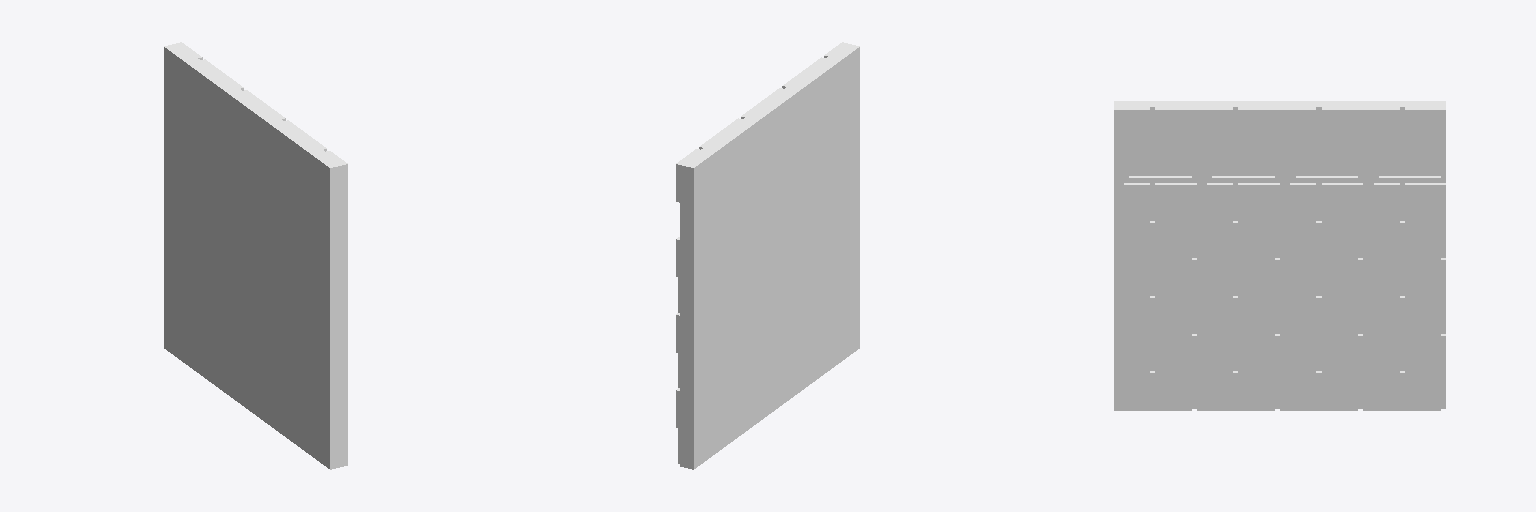
Rendered from dive_bar_wall_m.obj.
The picture shows the model from 3 angles: view 1: azimuth 30°, elevation 25°; view 2: azimuth 150°, elevation 25°; view 3: azimuth 270°, elevation 25°; orthographic projection.
Bounding box in the file's own units: 4 × 64 × 64.